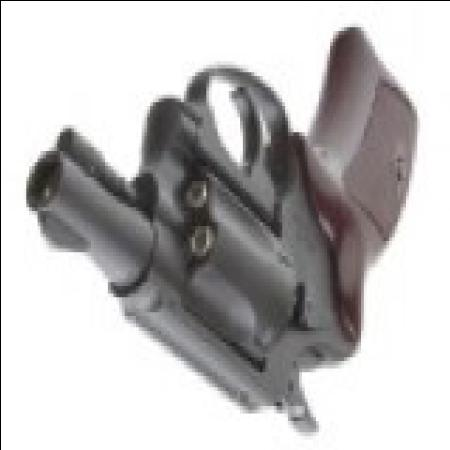Pistol: (20, 42, 416, 442)
